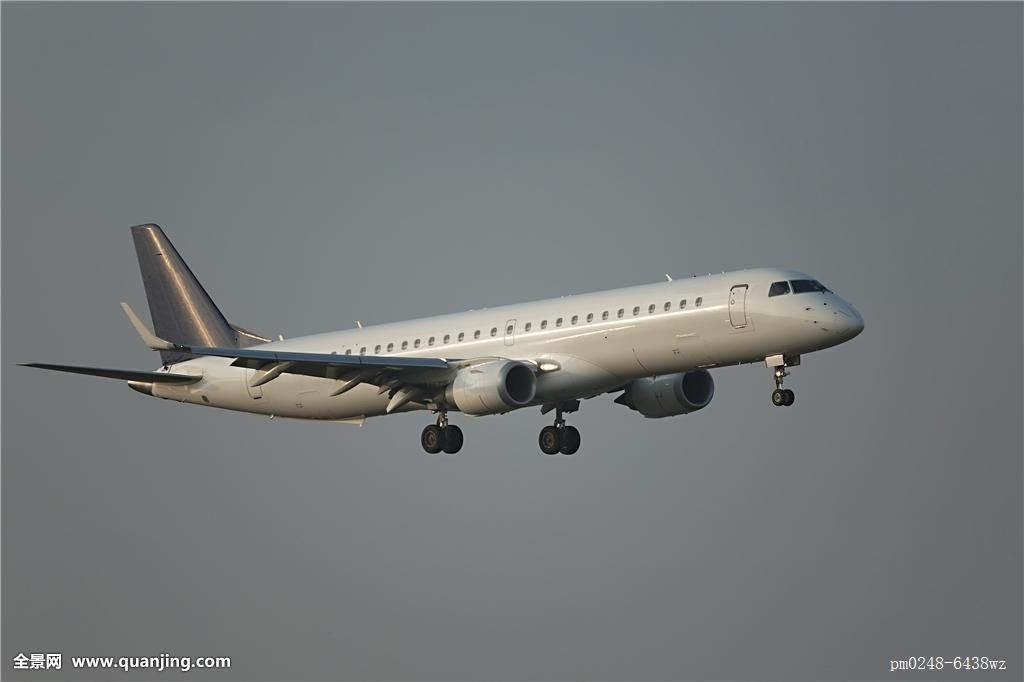airplane: (13, 219, 867, 463)
